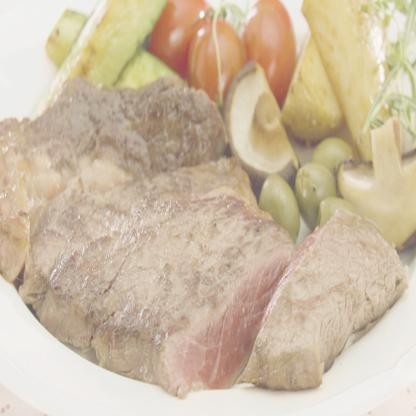Carne: (1, 163, 302, 400), (0, 96, 226, 265), (246, 207, 415, 387)
